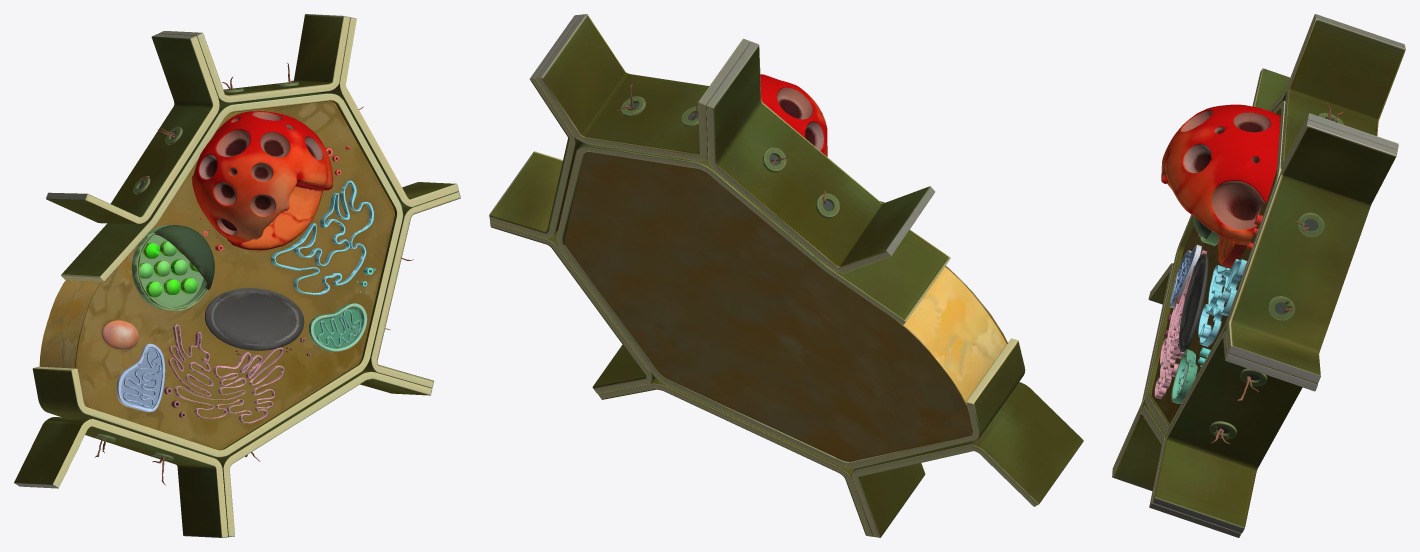
Rendered from modelo-ligero.glb.
3 renders of one model, left to right at view 1: azimuth 30°, elevation 25°; view 2: azimuth 150°, elevation 25°; view 3: azimuth 270°, elevation 25°, orthographic. The views are drawn at different scales.
Visible parts, largest first — view 1: Object_6, Object_8; view 2: Object_6; view 3: Object_6, Object_8.
Part boxes in pixels (box(x1,y1,x2,y2)): Object_6: box(14, 14, 460, 537); Object_8: box(75, 101, 394, 449); Object_6: box(489, 14, 1083, 537); Object_6: box(1112, 14, 1405, 537); Object_8: box(1152, 170, 1276, 423).
Size of the model in its own units: 3.7 by 3.62 by 1.85.
1 material, 1 textured.
